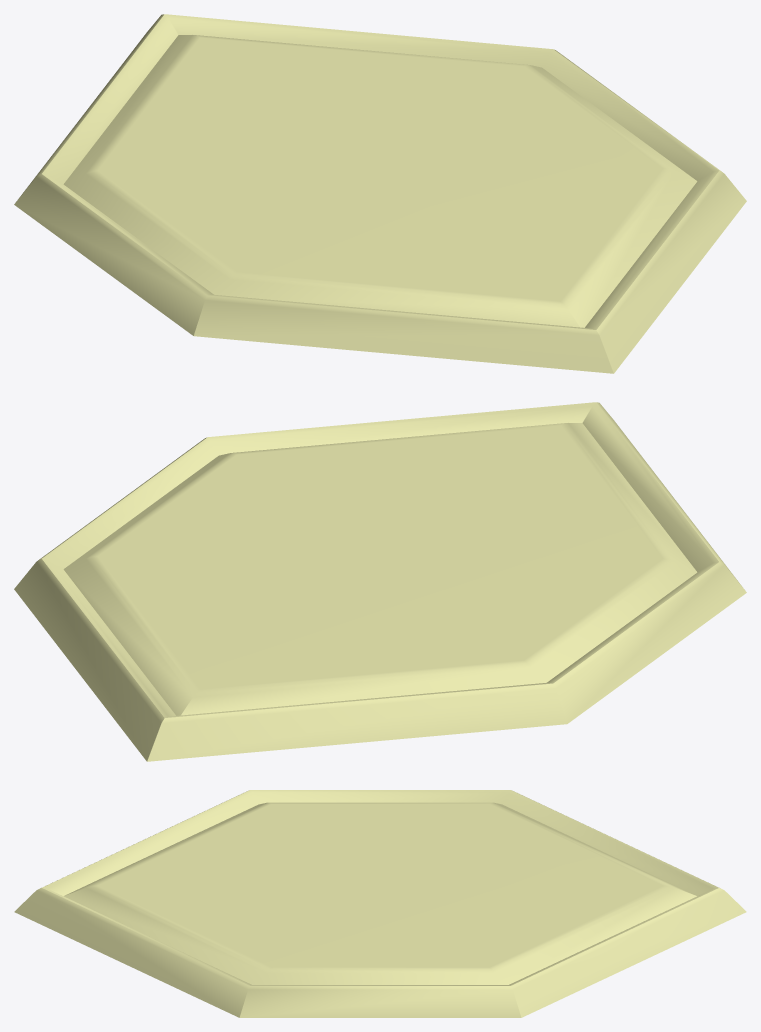
The model's file is CrystalHoney.fbx.
The picture shows the model from 3 angles, top to bottom: view 1: azimuth 30°, elevation 25°; view 2: azimuth 150°, elevation 25°; view 3: azimuth 270°, elevation 25°; orthographic projection. The views are drawn at different scales.
Visible parts, largest first — view 1: CrystalizedHoney; view 2: CrystalizedHoney; view 3: CrystalizedHoney.
Part boxes in pixels (x1,y1,x2,y2): CrystalizedHoney: [14, 14, 746, 373]; CrystalizedHoney: [14, 402, 746, 761]; CrystalizedHoney: [14, 790, 746, 1017].
Bounding box in the file's own units: 1.23 × 0.0712 × 1.8.
